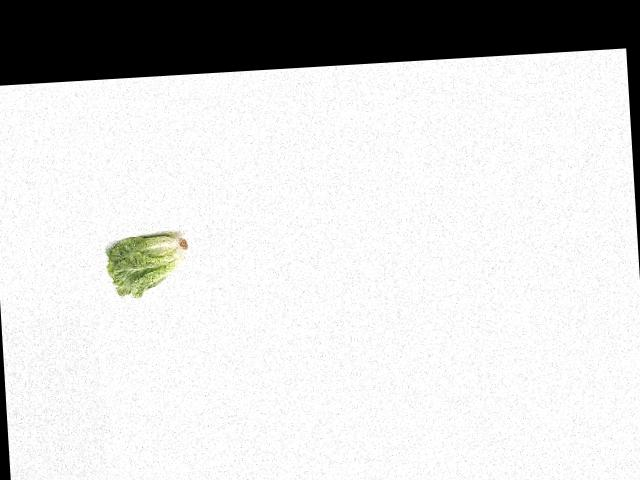lettuce: (105, 231, 194, 300)
